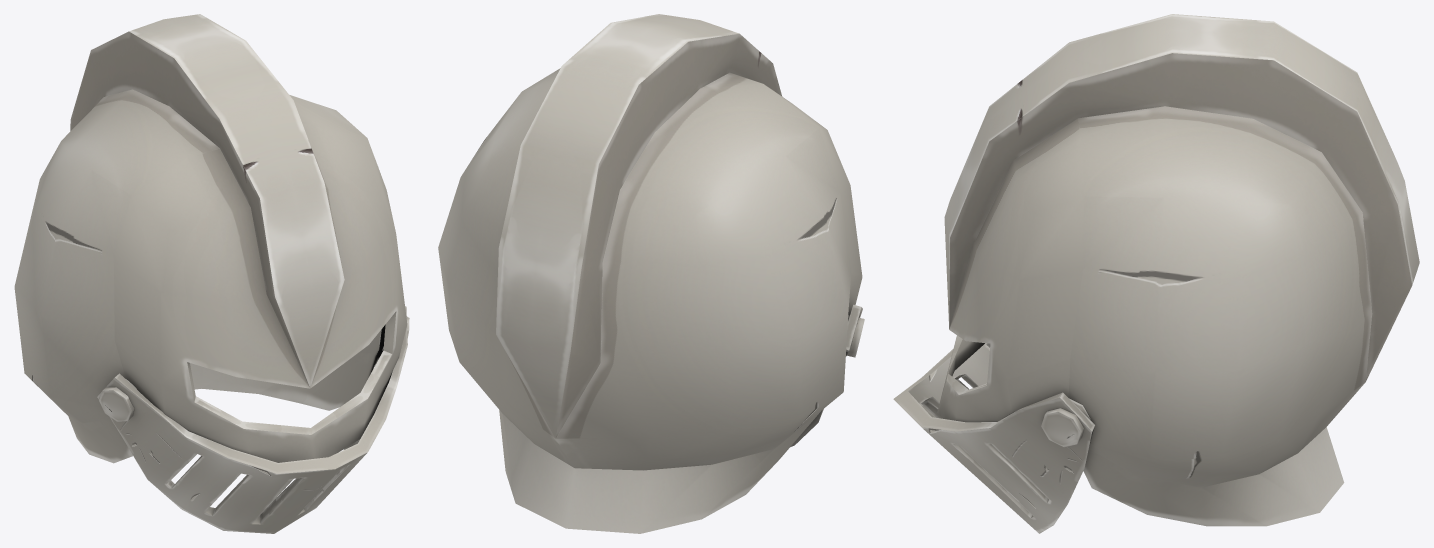
The model's file is armorhelmet.glb.
3 renders of one model, left to right at view 1: azimuth 30°, elevation 25°; view 2: azimuth 150°, elevation 25°; view 3: azimuth 270°, elevation 25°, orthographic. The views are drawn at different scales.
Visible parts, largest first — view 1: armorhelmet; view 2: armorhelmet; view 3: armorhelmet.
Boxes of the visible parts, x1,y1,x2,y2 form: armorhelmet: [14, 14, 409, 533]; armorhelmet: [438, 14, 864, 533]; armorhelmet: [893, 14, 1419, 533].
Size of the model in its own units: 1.08 by 1.29 by 1.25.
Materials: 1 (1 with a texture image).
